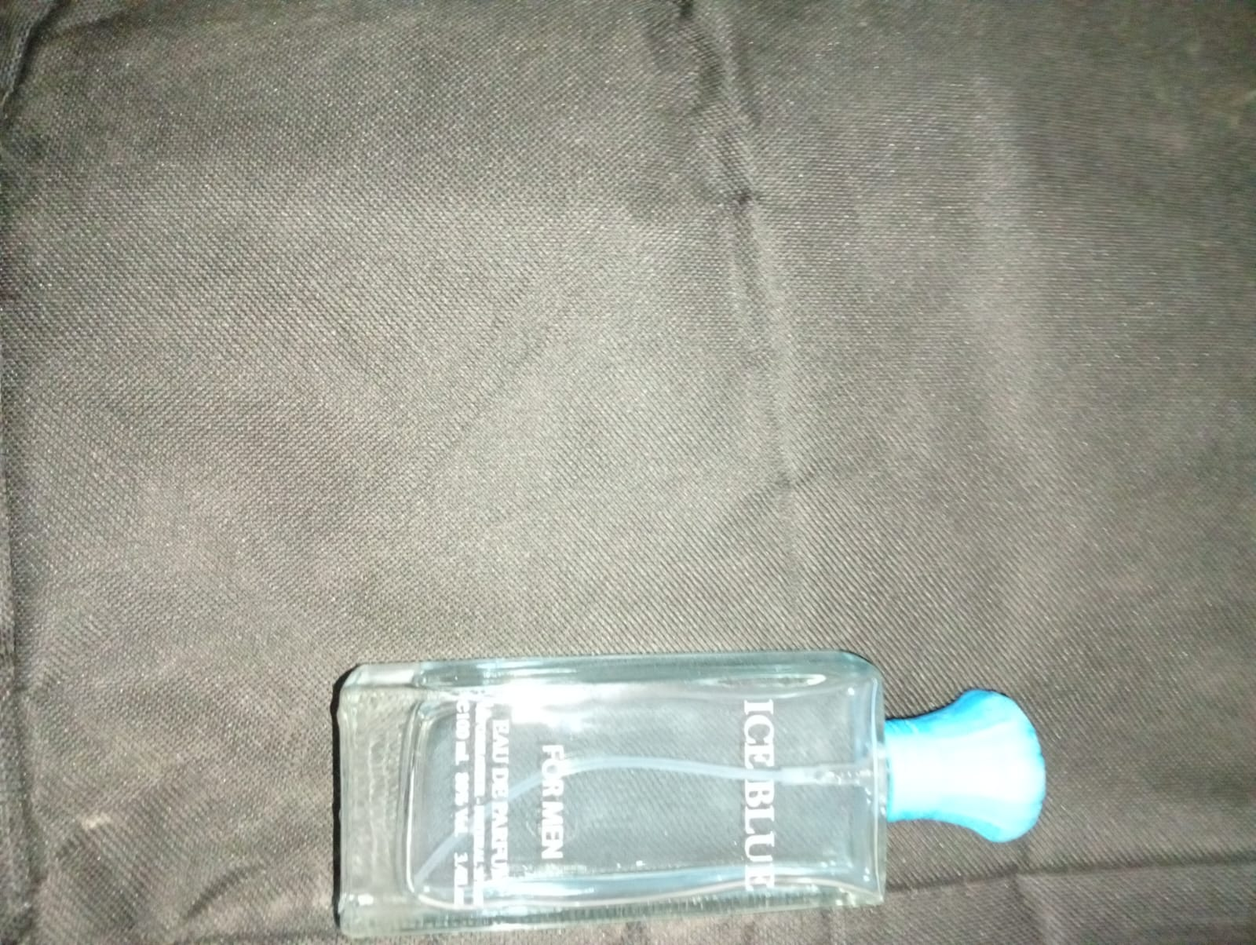Parfum: (279, 636, 1053, 940)
